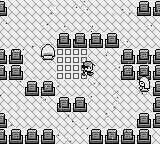main: (82, 60, 95, 76)
no-caminable: (88, 49, 160, 143), (1, 112, 55, 143), (56, 33, 119, 47), (0, 48, 22, 80), (56, 96, 88, 112), (25, 81, 54, 95), (136, 1, 160, 16), (0, 1, 8, 16)
npc: (41, 44, 55, 61), (138, 76, 151, 92)
recuperarse: (56, 48, 88, 80)
